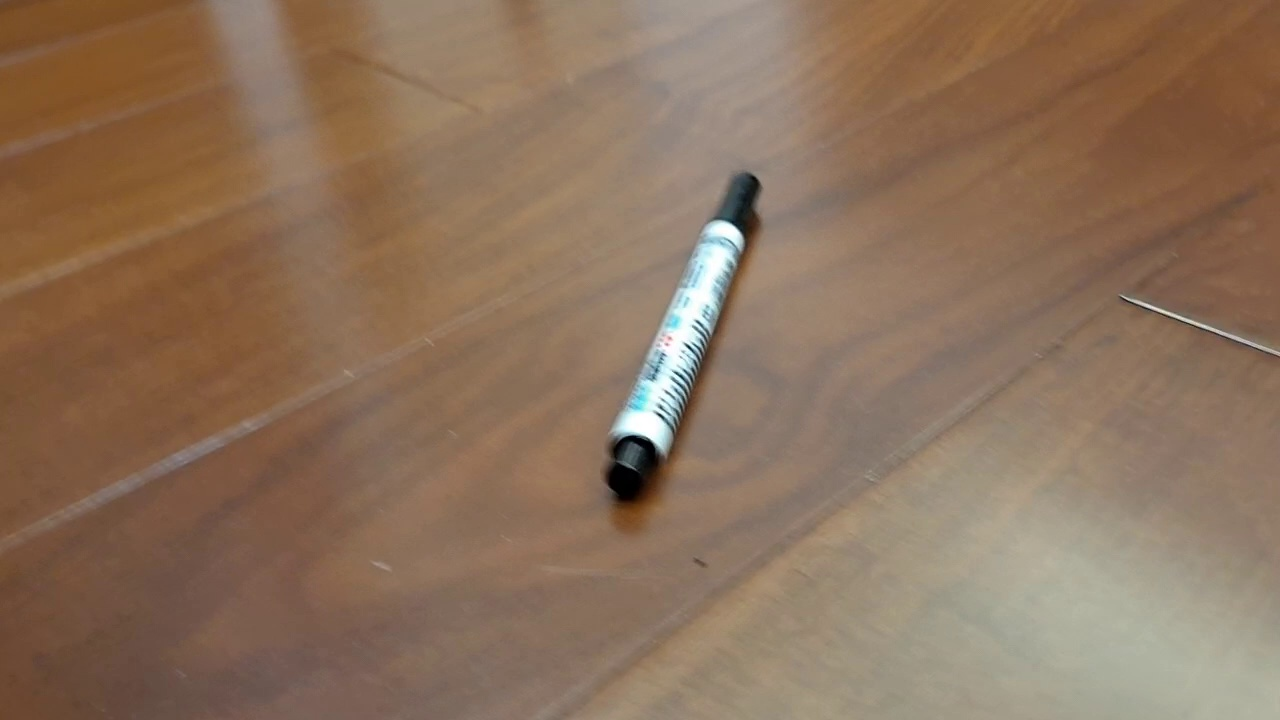pen: (602, 169, 763, 501)
